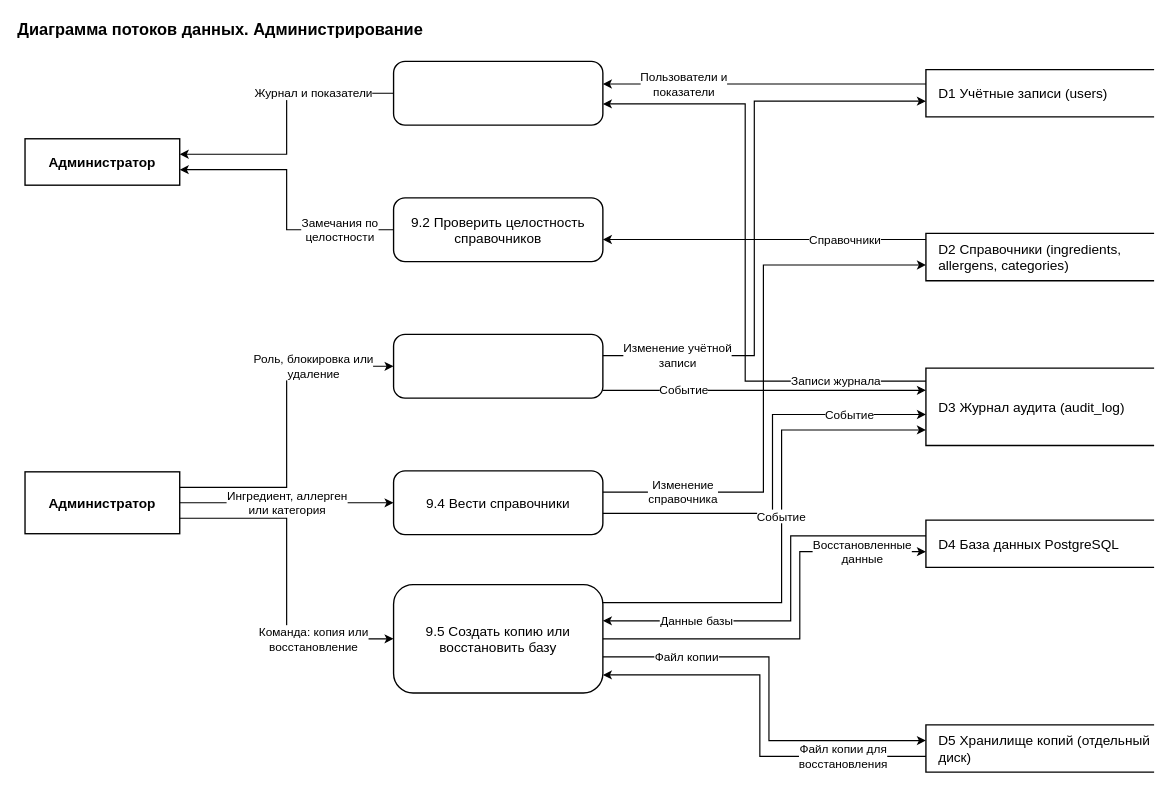
This 1169x788 diagram has some shape labels left out. Each missing label, with the centre of its shape:
9.1 Показать журнал и показатели: pixel 497 92
9.3 Управлять пользователями: pixel 497 365
